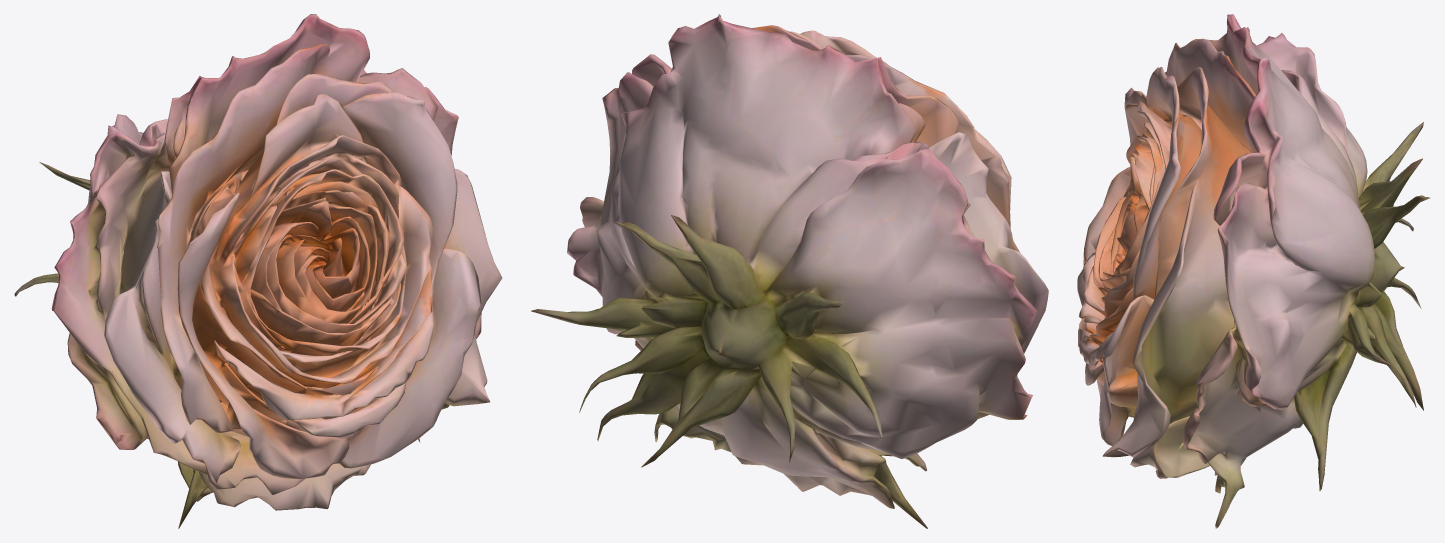
The model's file is fl-flower-rose-garden.glb.
3 views of the same model, side by side, from view 1: azimuth 30°, elevation 25°; view 2: azimuth 150°, elevation 25°; view 3: azimuth 270°, elevation 25° (orthographic). The views are drawn at different scales.
Visible parts, largest first — view 1: node_0; view 2: node_0; view 3: node_0.
Boxes of the visible parts, x1,y1,x2,y2 form: node_0: (14, 14, 502, 528); node_0: (531, 14, 1048, 528); node_0: (1077, 14, 1430, 528).
Bounding box in the file's own units: 1.03 × 1.06 × 0.7454.
1 material, 1 textured.
